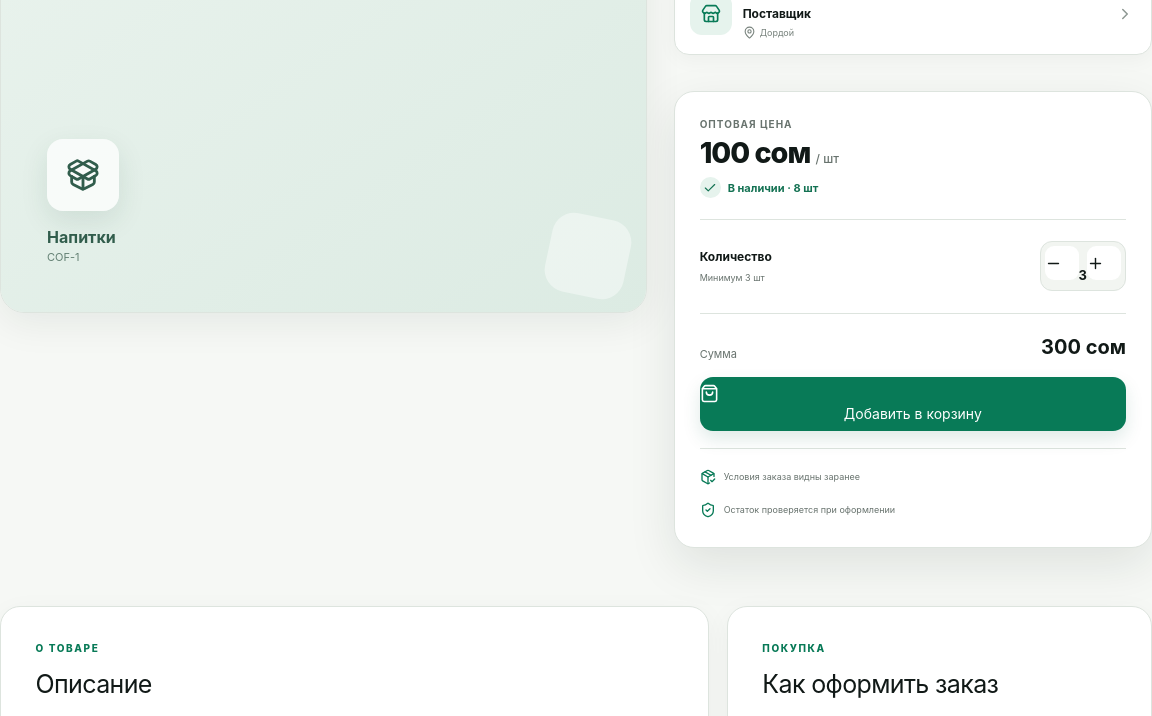
product detail › maps backend INSUFFICIENT_STOCK errors for the user
The image size is (1152, 716).
(page scrolled)
Click the button "Добавить в корзину" at coordinates (913, 404), box [700,377,1126,431]
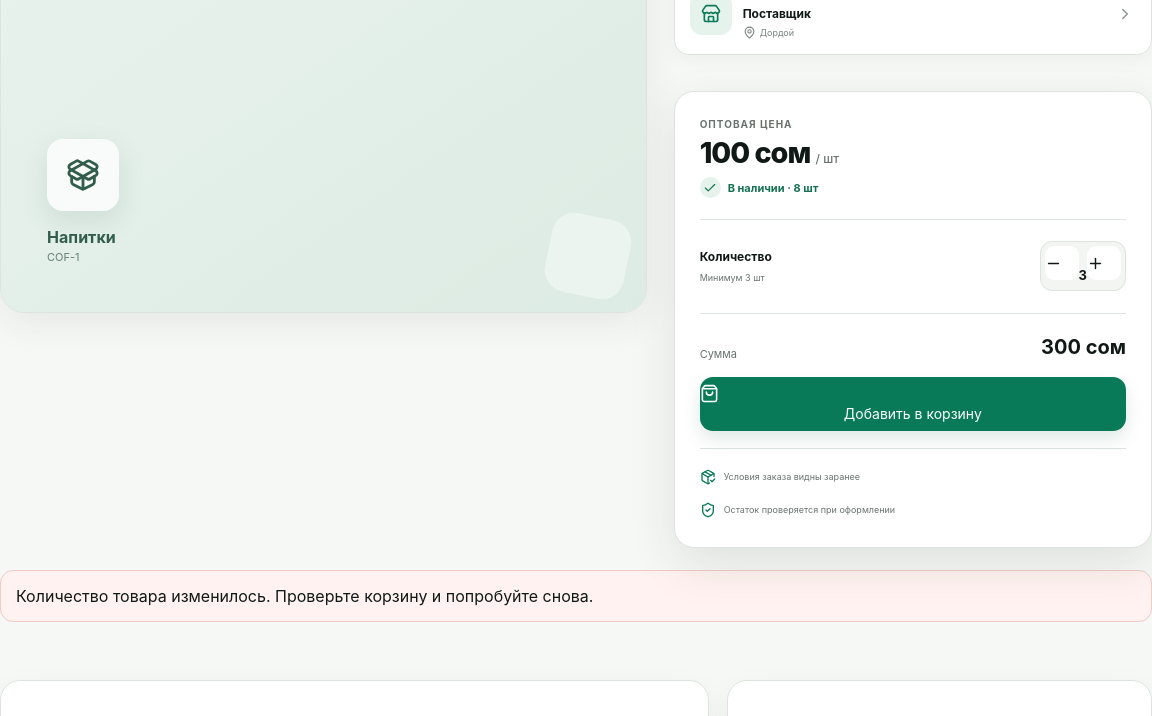
Result: the text "Количество товара изменилось. Проверьте корзину и попробуйте снова." is shown at [0,570,1151,622]
